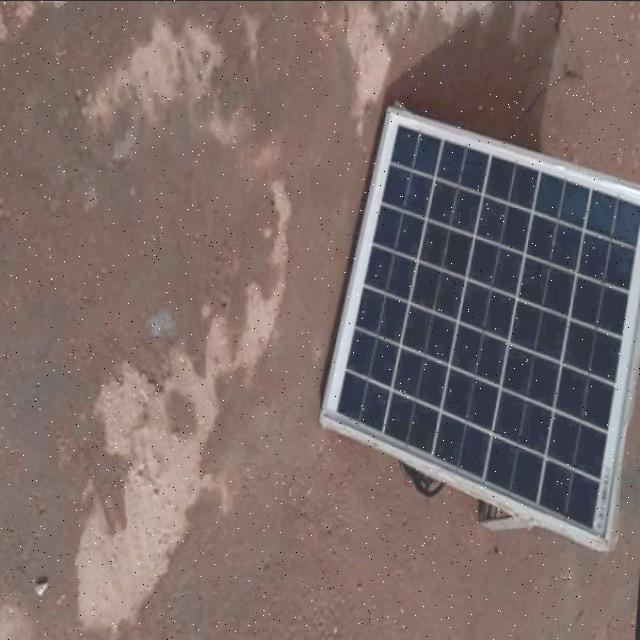Normal Solar Panel: (319, 101, 640, 548)
